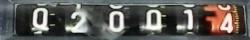digits: (66, 10, 92, 34), (142, 9, 166, 31), (31, 8, 49, 30), (216, 13, 234, 34), (108, 10, 124, 32), (182, 8, 195, 30)
